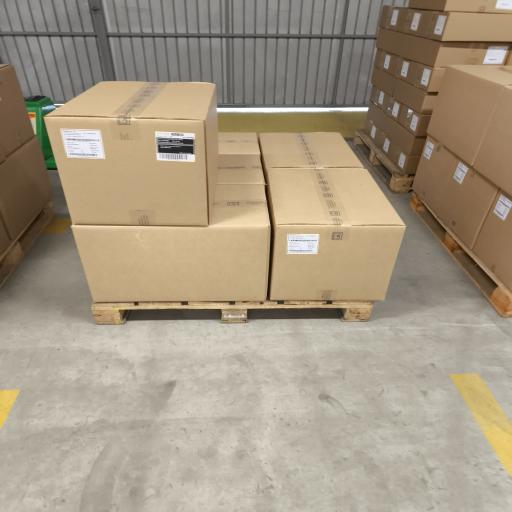pallet: (410, 193, 511, 317), (92, 301, 373, 324), (0, 202, 54, 287), (354, 130, 414, 193)
